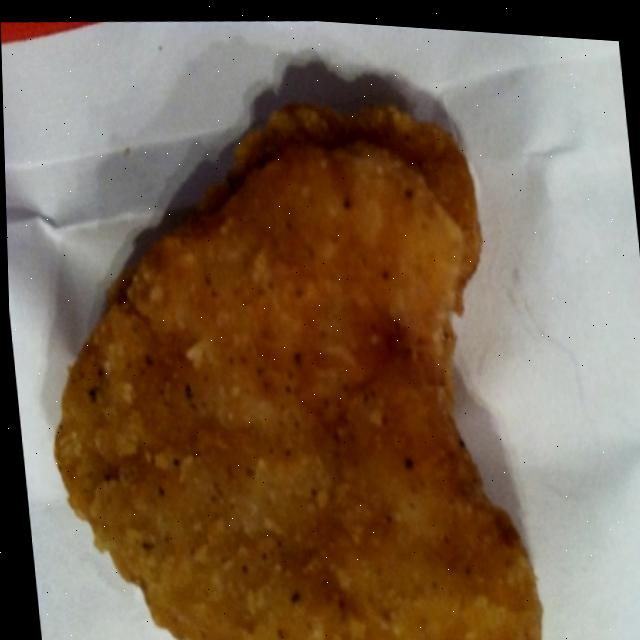鸡肉料理 含炸鸡: (5, 37, 591, 640)
